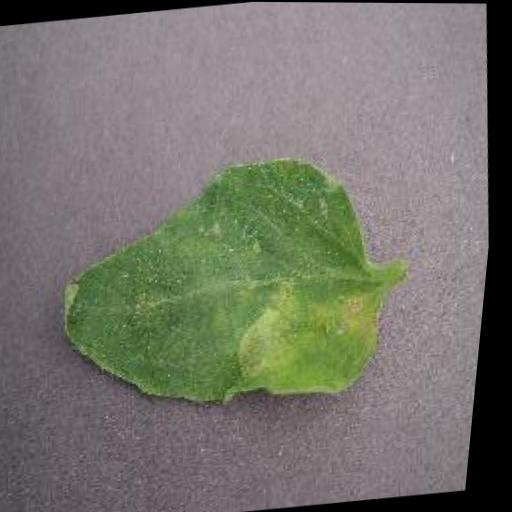Late Blight: (38, 141, 414, 430)
